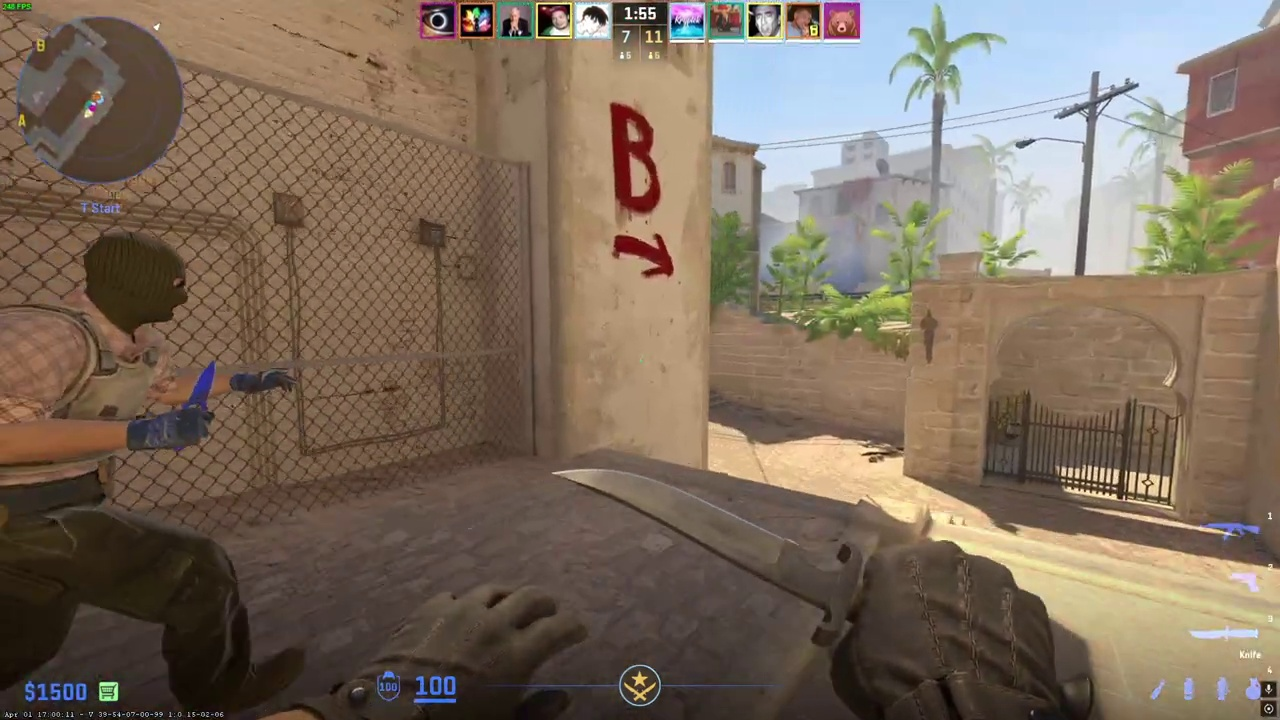Terrorist: (0, 231, 254, 720)
